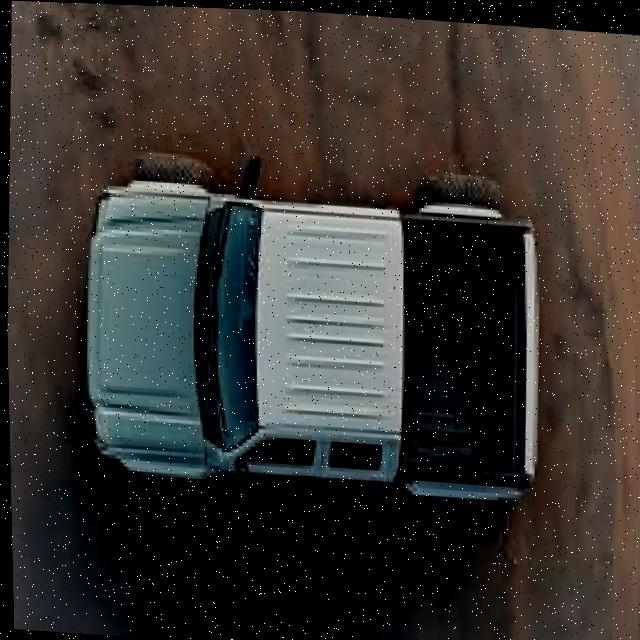truck: (75, 134, 548, 524)
